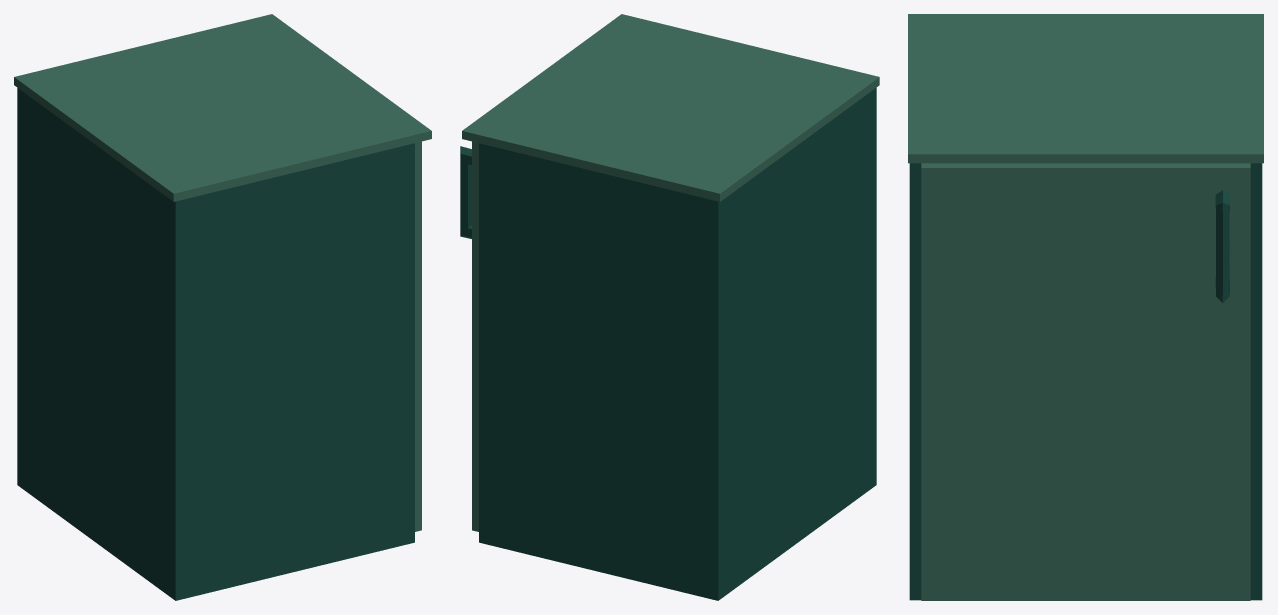
The model's file is cabinet.fbx.
3 views of the same model, side by side, from view 1: azimuth 30°, elevation 25°; view 2: azimuth 150°, elevation 25°; view 3: azimuth 270°, elevation 25° (orthographic). The views are drawn at different scales.
Visible parts, largest first — view 1: cabinet_geo; view 2: cabinet_geo, handle_01_geo; view 3: cabinet_geo, handle_01_geo.
Part boxes in pixels (<box>): cabinet_geo: <box>14,14,431,600</box>; cabinet_geo: <box>462,14,879,600</box>; handle_01_geo: <box>460,146,471,238</box>; cabinet_geo: <box>908,14,1263,600</box>; handle_01_geo: <box>1215,190,1229,302</box>.
Size of the model in its own units: 202 by 283 by 201.
